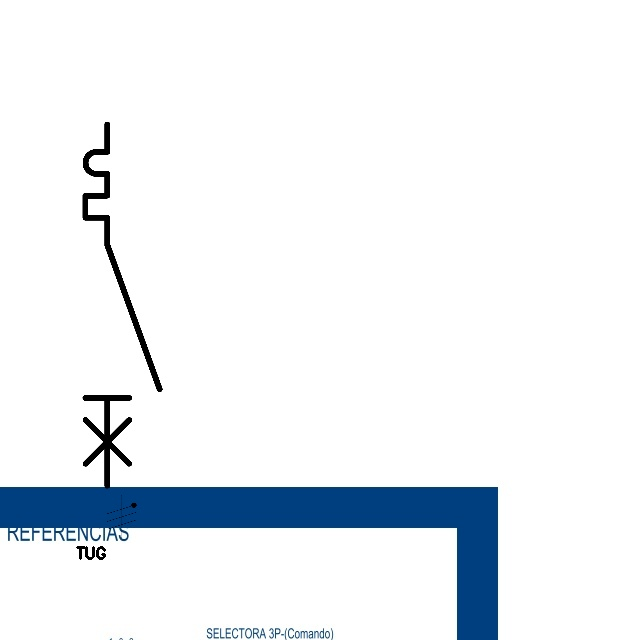interruptor_termomagnetico: (76, 115, 169, 495)
